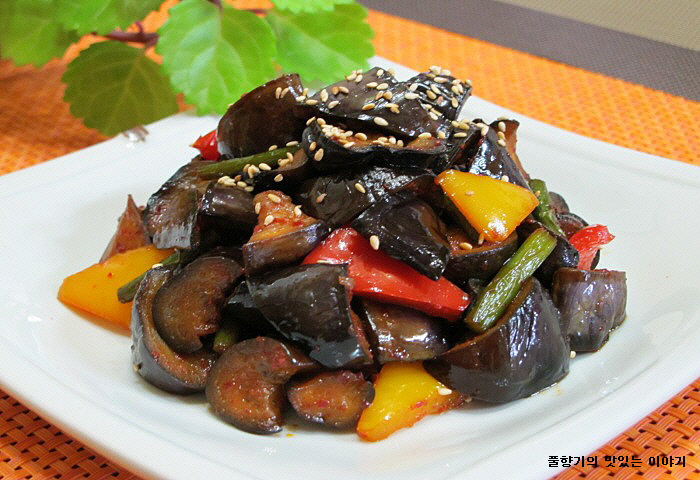gajinamul: (109, 64, 634, 443)
